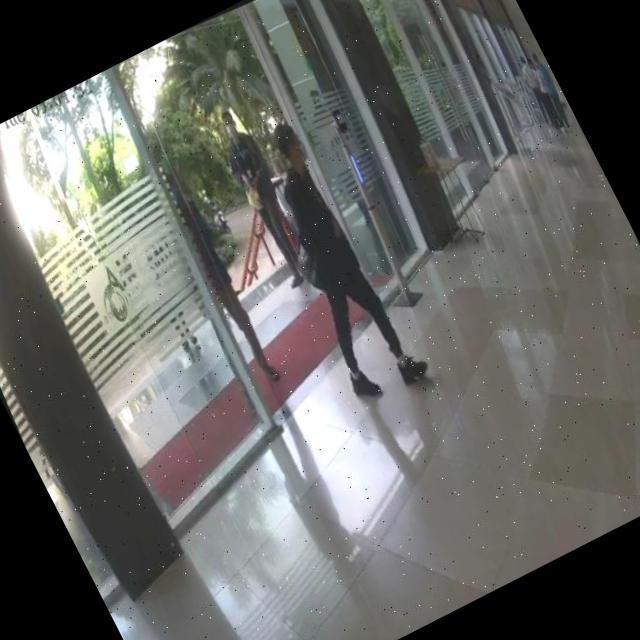person: (232, 106, 448, 408), (130, 160, 300, 422), (194, 99, 328, 298)
